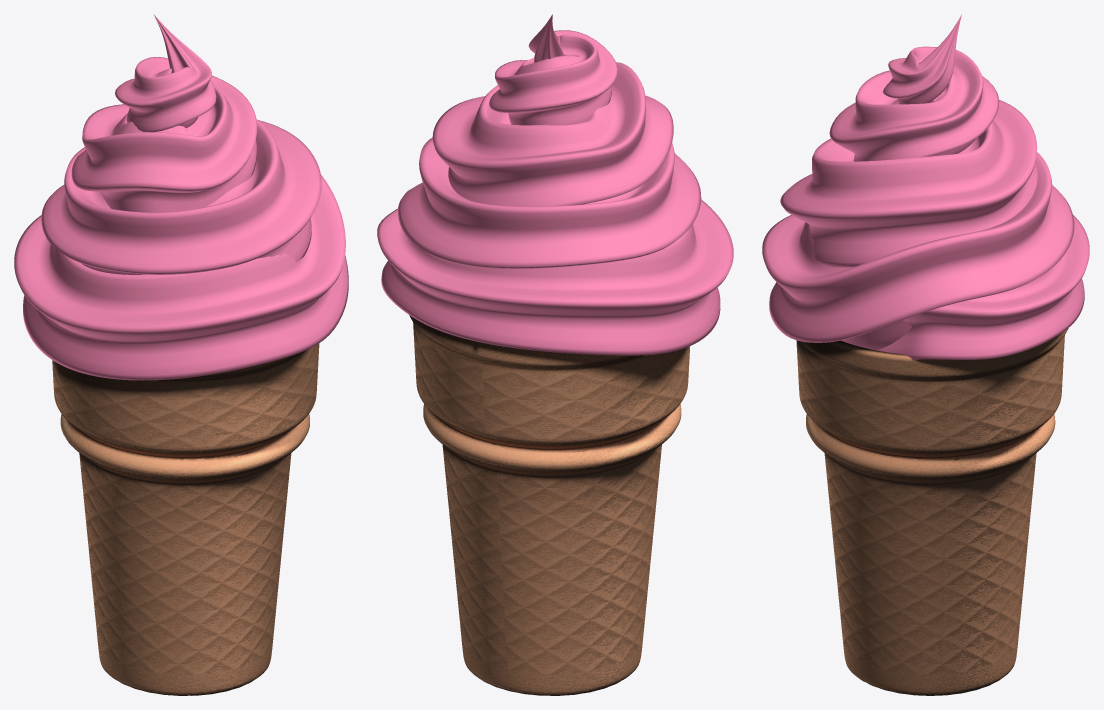
File: Pink-Ice-Cream-textured-cone.glb
The picture shows the model from 3 angles, left to right: view 1: azimuth 30°, elevation 25°; view 2: azimuth 150°, elevation 25°; view 3: azimuth 270°, elevation 25°; orthographic projection. The views are drawn at different scales.
Parts seen in each view (by area): view 1: Cream, Cone.001; view 2: Cream, Cone.001; view 3: Cream, Cone.001.
Boxes of the visible parts, box(x1,y1,x2,y2) form: Cream: box(14, 15, 348, 380); Cone.001: box(52, 343, 319, 695); Cream: box(377, 14, 733, 355); Cone.001: box(409, 315, 690, 695); Cream: box(762, 14, 1089, 359); Cone.001: box(796, 328, 1068, 695).
Size of the model in its own units: 1.47 by 3.11 by 1.44.
2 materials, 1 textured.
